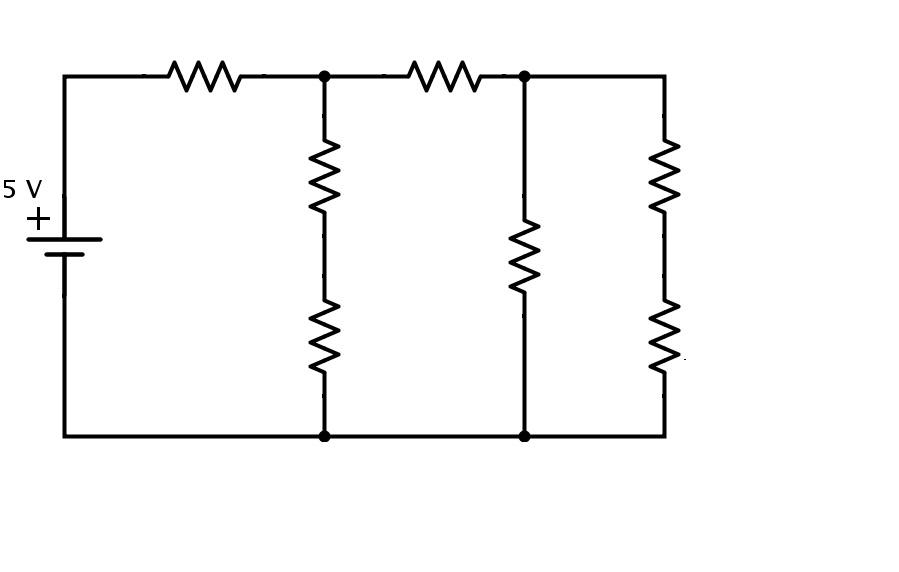resistor: (481, 194, 579, 321), (617, 266, 704, 393), (273, 107, 352, 228), (282, 268, 356, 395), (144, 29, 260, 105), (632, 107, 695, 232), (380, 41, 485, 101)
